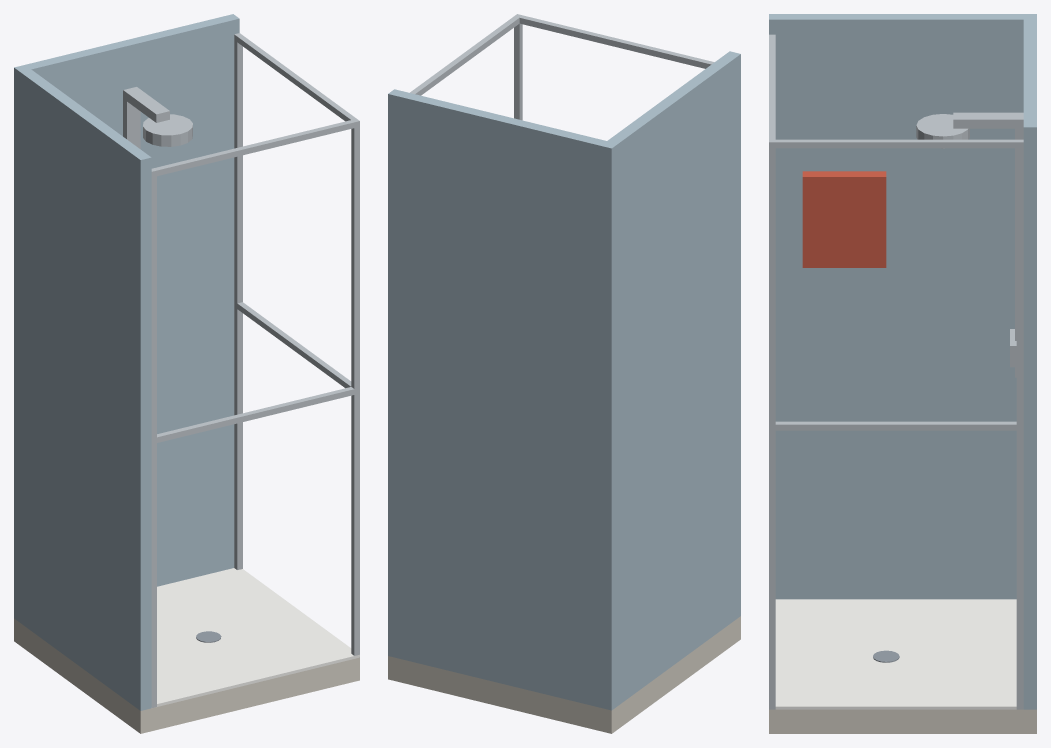
File: shower.glb
The picture shows the model from 3 angles, left to right: view 1: azimuth 30°, elevation 25°; view 2: azimuth 150°, elevation 25°; view 3: azimuth 270°, elevation 25°; orthographic projection. The views are drawn at different scales.
Visible parts, largest first — view 1: shower_Body; view 2: shower_Body; view 3: shower_Body.
Boxes of the visible parts, bbox=[...] form: shower_Body: bbox=[14, 14, 359, 733]; shower_Body: bbox=[388, 14, 740, 733]; shower_Body: bbox=[769, 14, 1036, 733].
Bounding box in the file's own units: 0.8 × 2 × 0.8.
